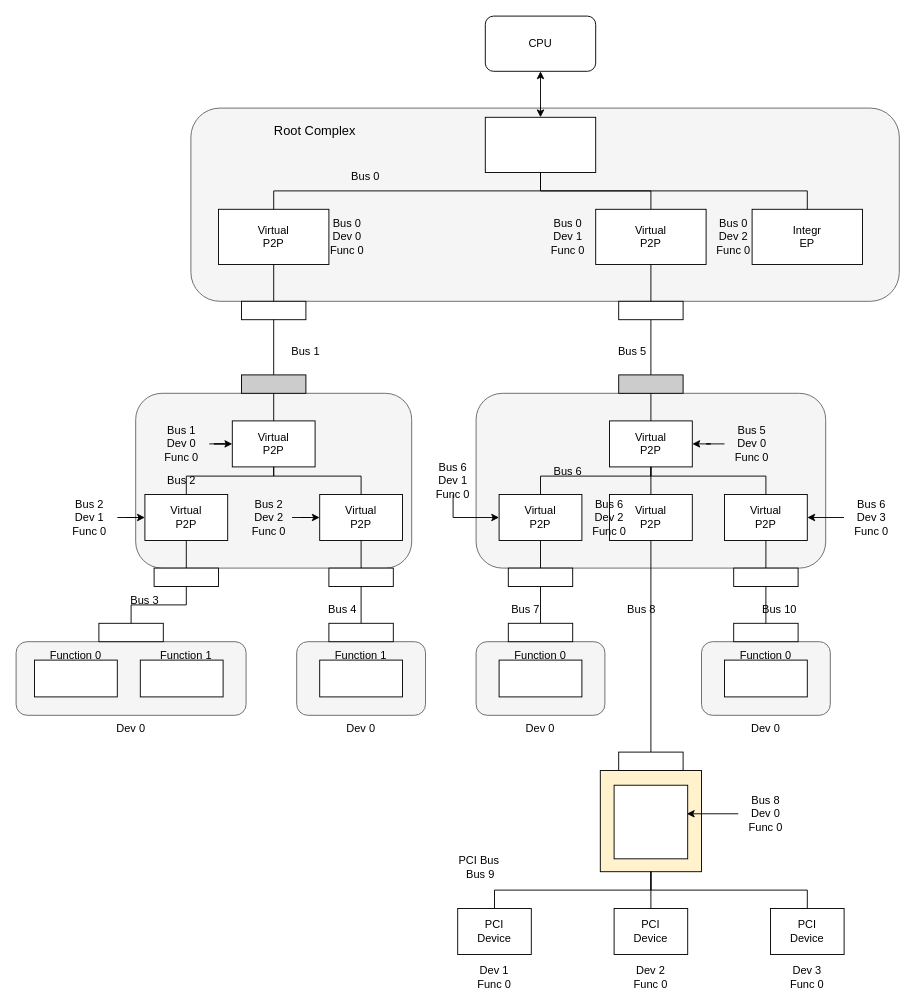
Some shapes in this 915 by 1007 pixel diagram are drawn without their labels. Here are the shapes that lost their labels. From the top down, the box of each, then its label:
(484, 116, 596, 172): Host/PCI Bridge
(613, 784, 688, 859): PCIe-PCI Bridge
